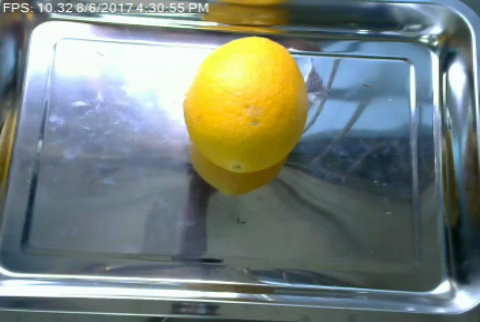Orange: (182, 35, 309, 171)
